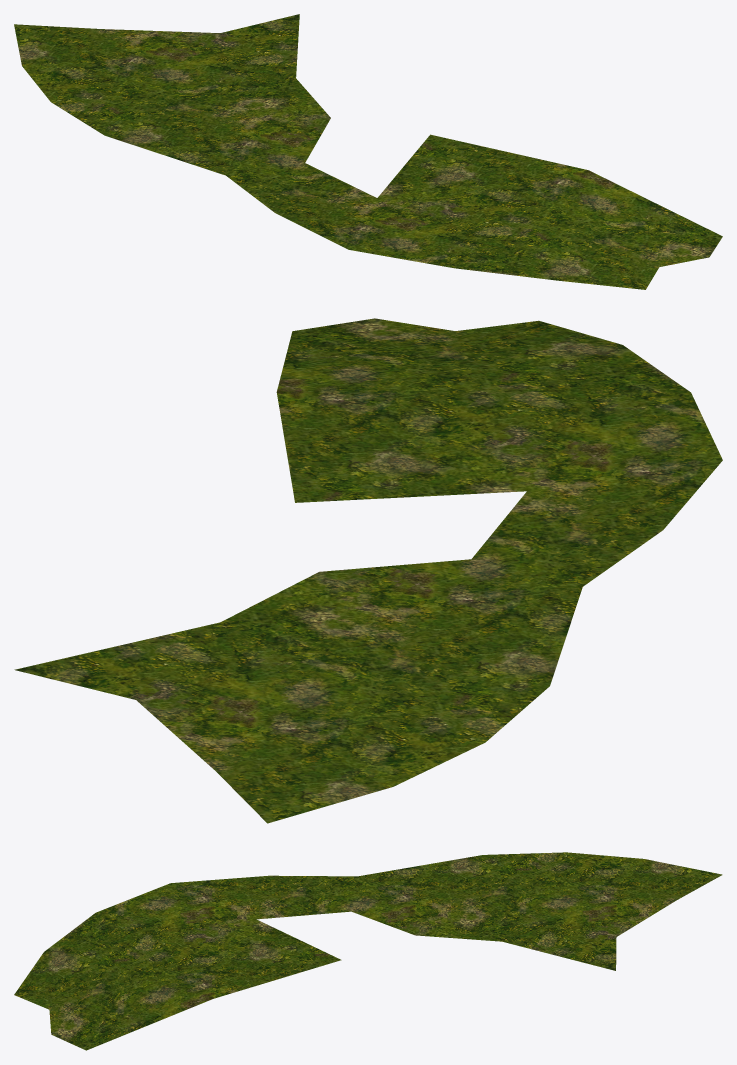
File: OVERHILL_A_01_OBJECT06.fbx
3 views of the same model, one above another, from view 1: azimuth 30°, elevation 25°; view 2: azimuth 150°, elevation 25°; view 3: azimuth 270°, elevation 25° (orthographic). The views are drawn at different scales.
Parts seen in each view (by area): view 1: OVERHILL_A_01_OBJECT06; view 2: OVERHILL_A_01_OBJECT06; view 3: OVERHILL_A_01_OBJECT06.
Part boxes in pixels (x1,y1,x2,y2): OVERHILL_A_01_OBJECT06: (14, 14, 722, 289); OVERHILL_A_01_OBJECT06: (14, 318, 722, 823); OVERHILL_A_01_OBJECT06: (14, 852, 722, 1050).
Size of the model in its own units: 40203 by 3016 by 70540.
1 material, 1 textured.
